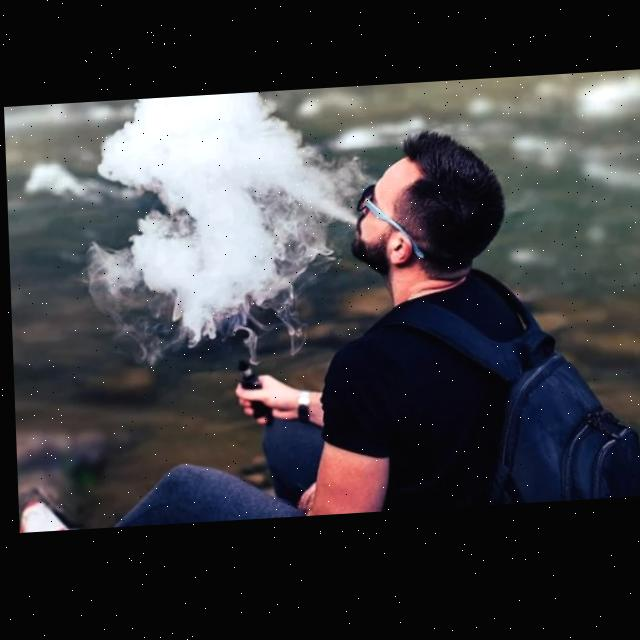vape: (233, 362, 272, 424)
